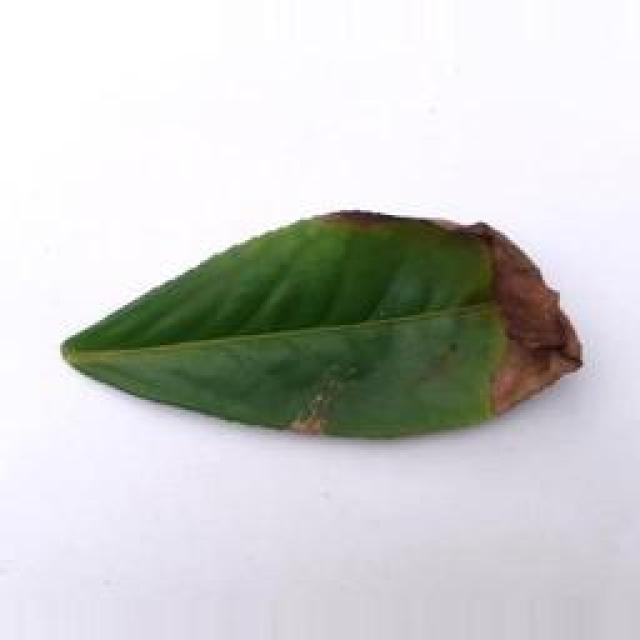Brown Blight: (48, 199, 600, 442)
